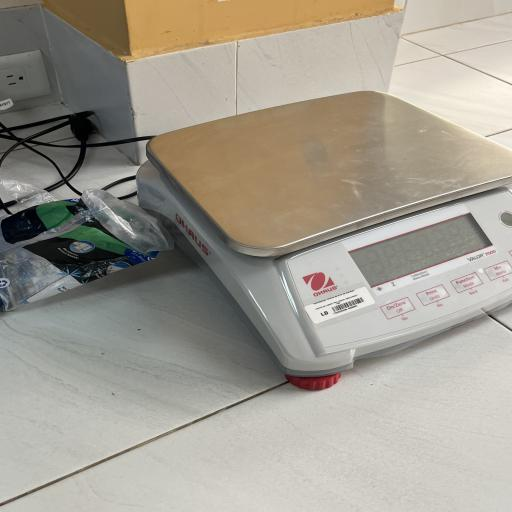Balanza_Granataria_Ohaus: (116, 80, 512, 396)
